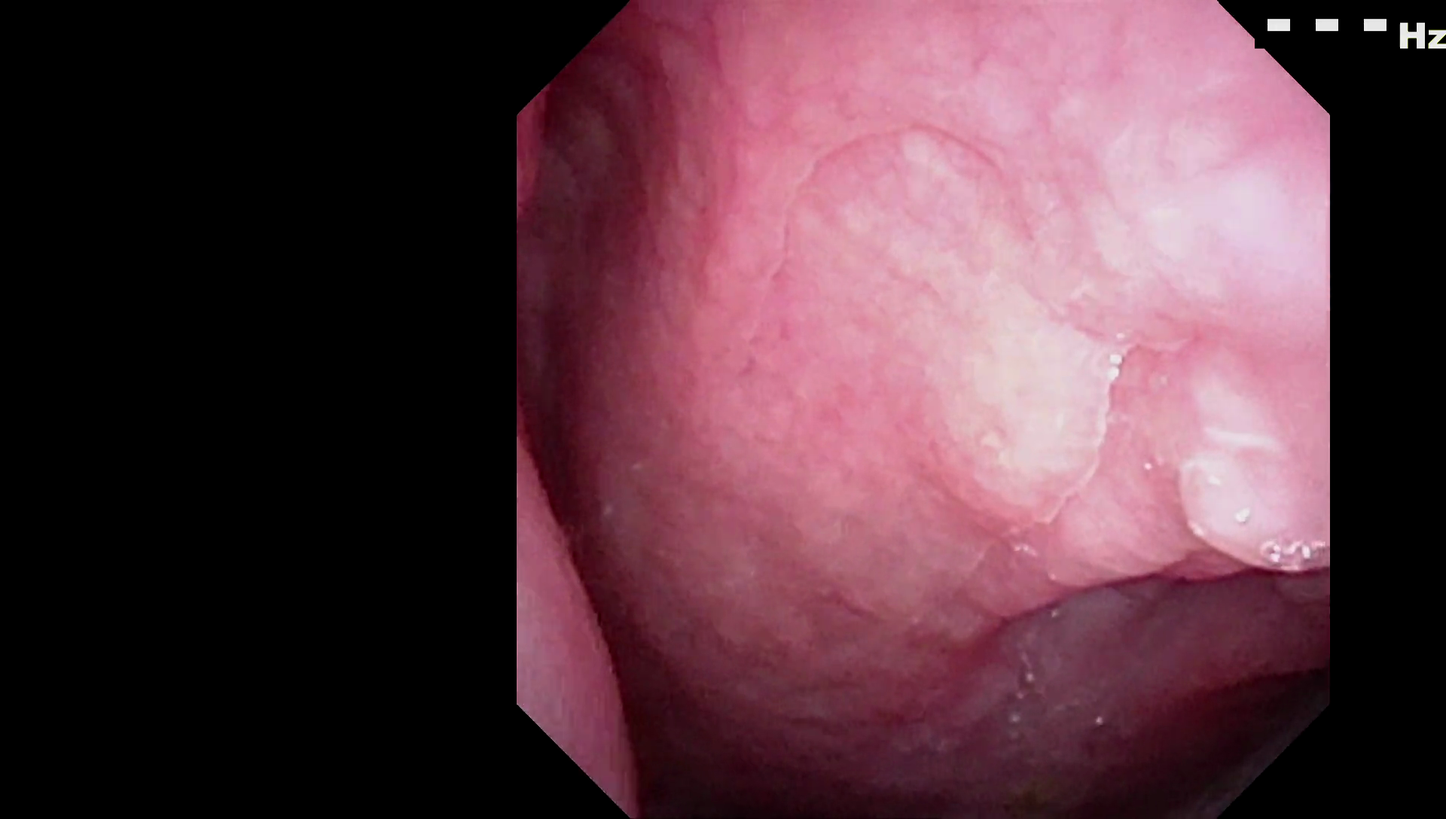close_wall: (705, 116, 1314, 541)
next: (1066, 656, 1324, 812), (578, 638, 788, 819)
